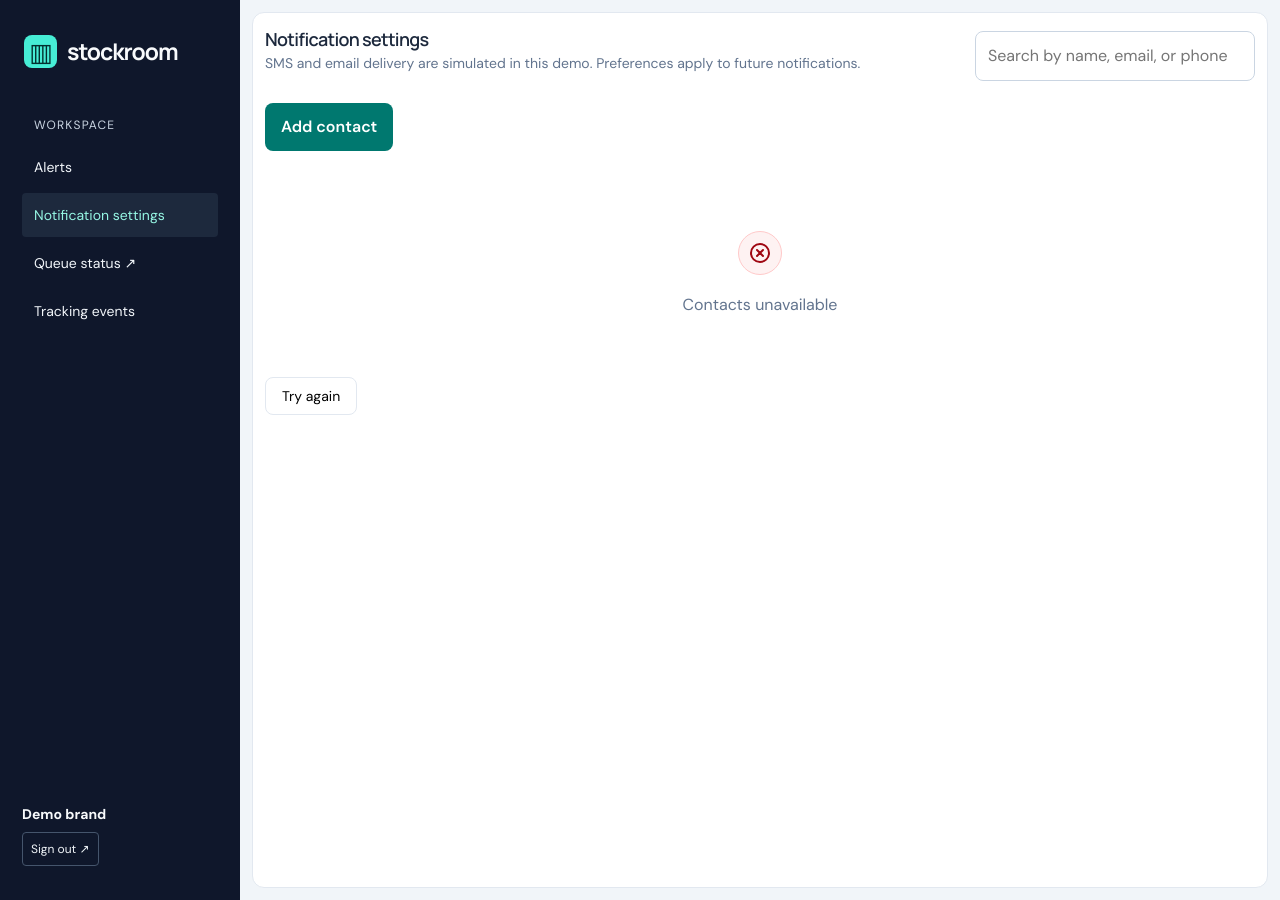
offers a retry for failed contact loading and paginates contacts
Expected: the message reads "Contacts unavailable", [682, 294, 837, 315]
What coordinates should you click on to do the following:
click the button "Try again"
I would click on:
 (311, 396)
Its box is [265, 377, 357, 415].
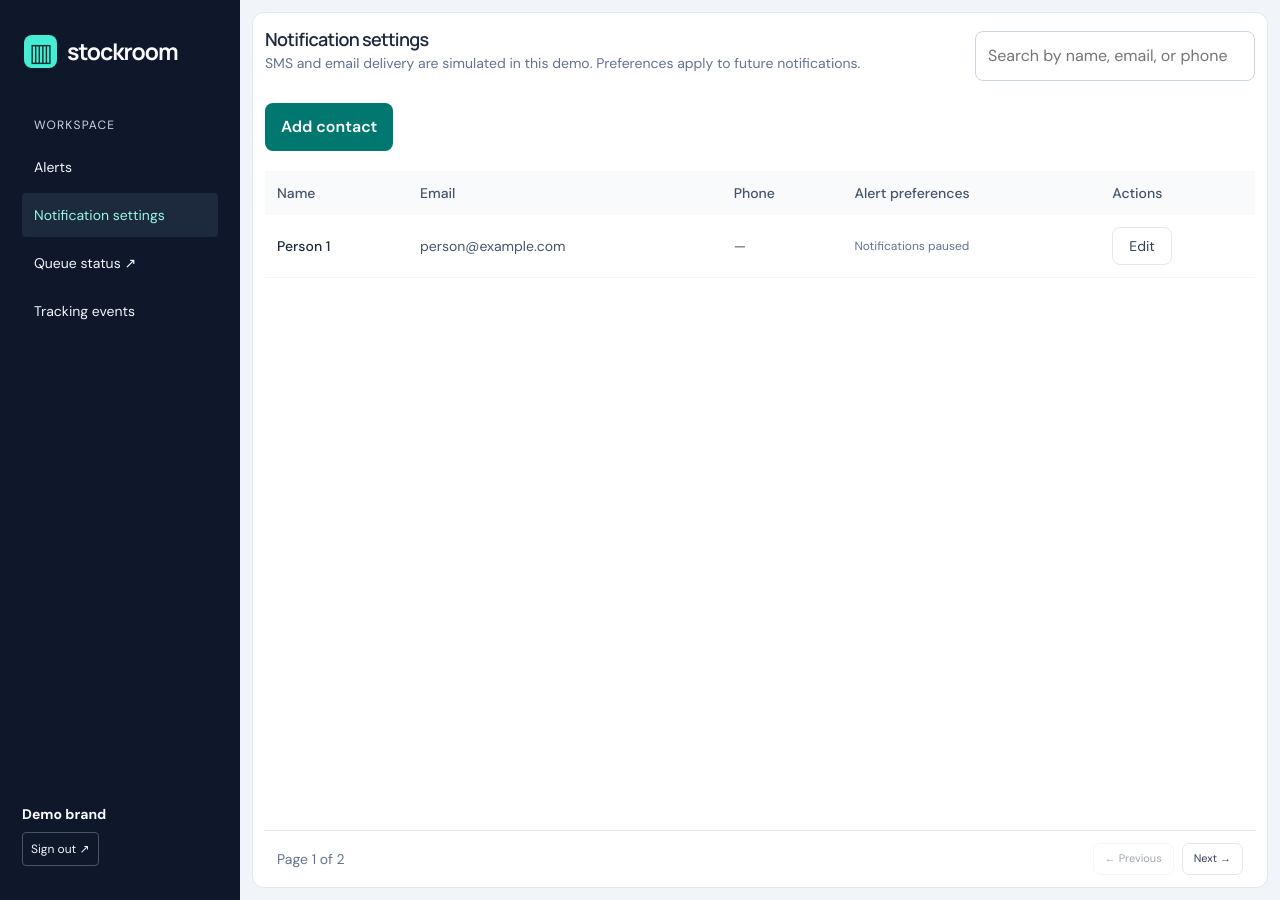
Expected: the text "Person 1" is shown, [265, 215, 408, 278]
What coordinates should you click on to do the following:
click the button "Next →"
I would click on:
 (1212, 859)
Its box is [1182, 843, 1243, 875].
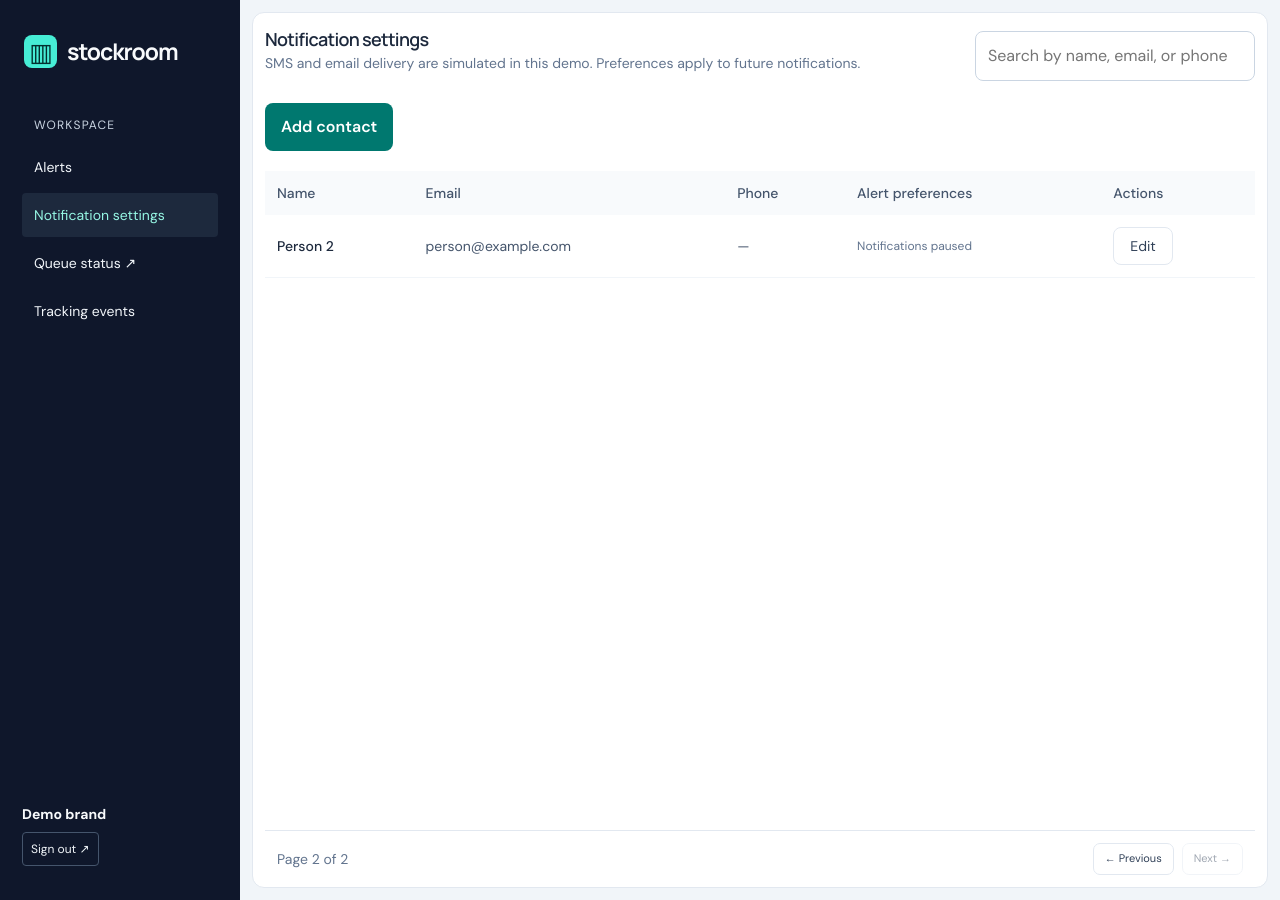
Expected: the text "Person 2" is shown, [265, 215, 414, 278]
Expected: the button "Next →" is disabled, [1182, 843, 1243, 875]
